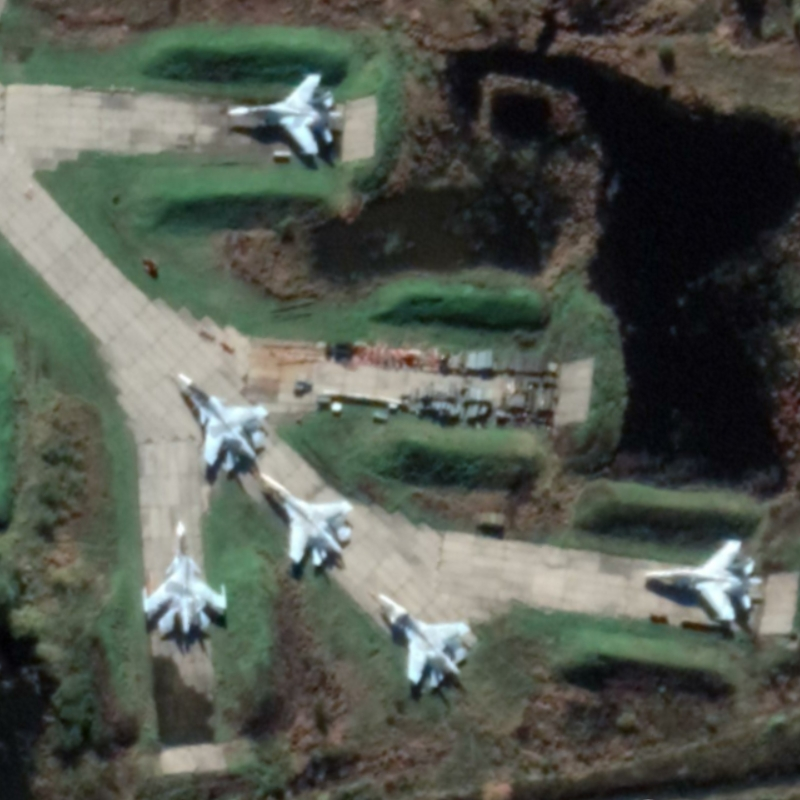A1: (366, 588, 473, 691), (643, 536, 764, 624), (225, 71, 343, 158), (257, 470, 354, 569)
A19: (139, 518, 231, 637), (174, 370, 270, 472)
